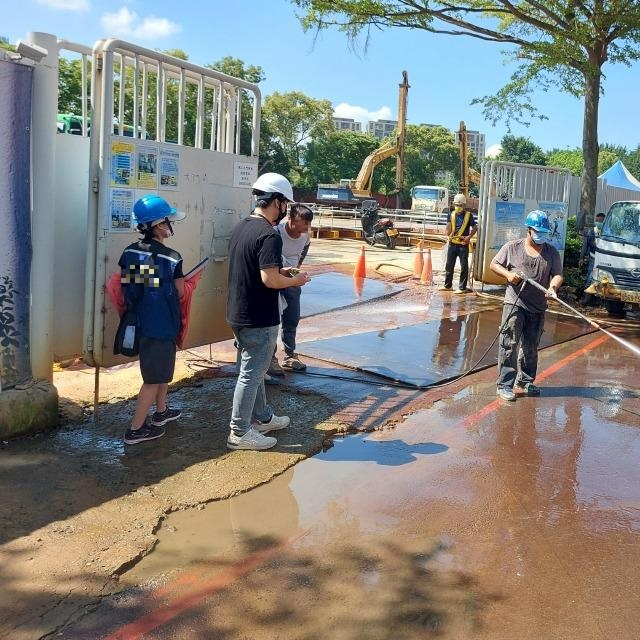Helmet: (128, 191, 187, 240), (249, 168, 293, 221), (522, 206, 555, 242)
NoVest: (222, 214, 284, 322), (493, 239, 564, 313)
